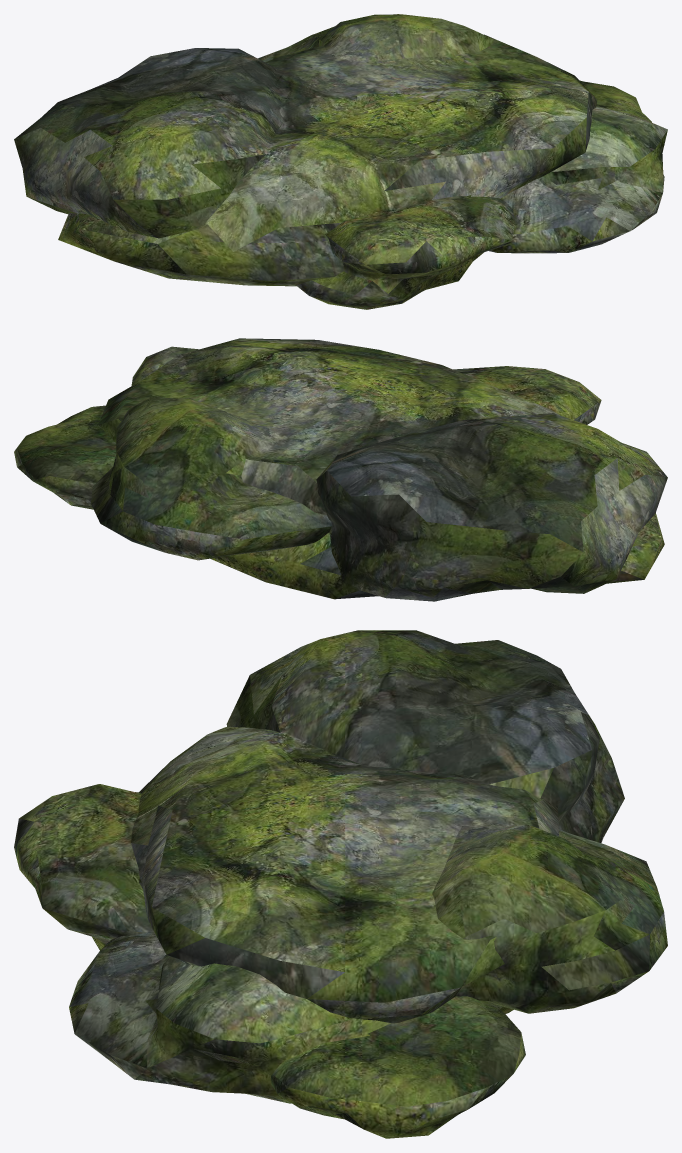
The model's file is rock_coastal_shelf.glb.
The picture shows the model from 3 angles, top to bottom: view 1: azimuth 30°, elevation 25°; view 2: azimuth 150°, elevation 25°; view 3: azimuth 270°, elevation 25°; orthographic projection. The views are drawn at different scales.
Visible parts, largest first — view 1: rock_coastal_shelf; view 2: rock_coastal_shelf; view 3: rock_coastal_shelf.
Part boxes in pixels (box(x1,y1,x2,y2)): rock_coastal_shelf: box(14, 14, 667, 309); rock_coastal_shelf: box(14, 338, 667, 601); rock_coastal_shelf: box(14, 630, 667, 1138).
Bounding box in the file's own units: 7.58 × 1.95 × 5.56.
1 material, 1 textured.
